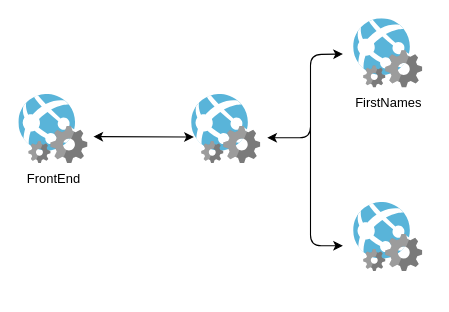
Image size: 449x312. Some labels were removed from this diagram. The shapes that lost their labels are listed below. From the top down, each one's box as (x1, y1, x2, y2) in pixels, then its label:
(191, 94, 260, 163): Merge
(353, 202, 422, 271): SecondNames
